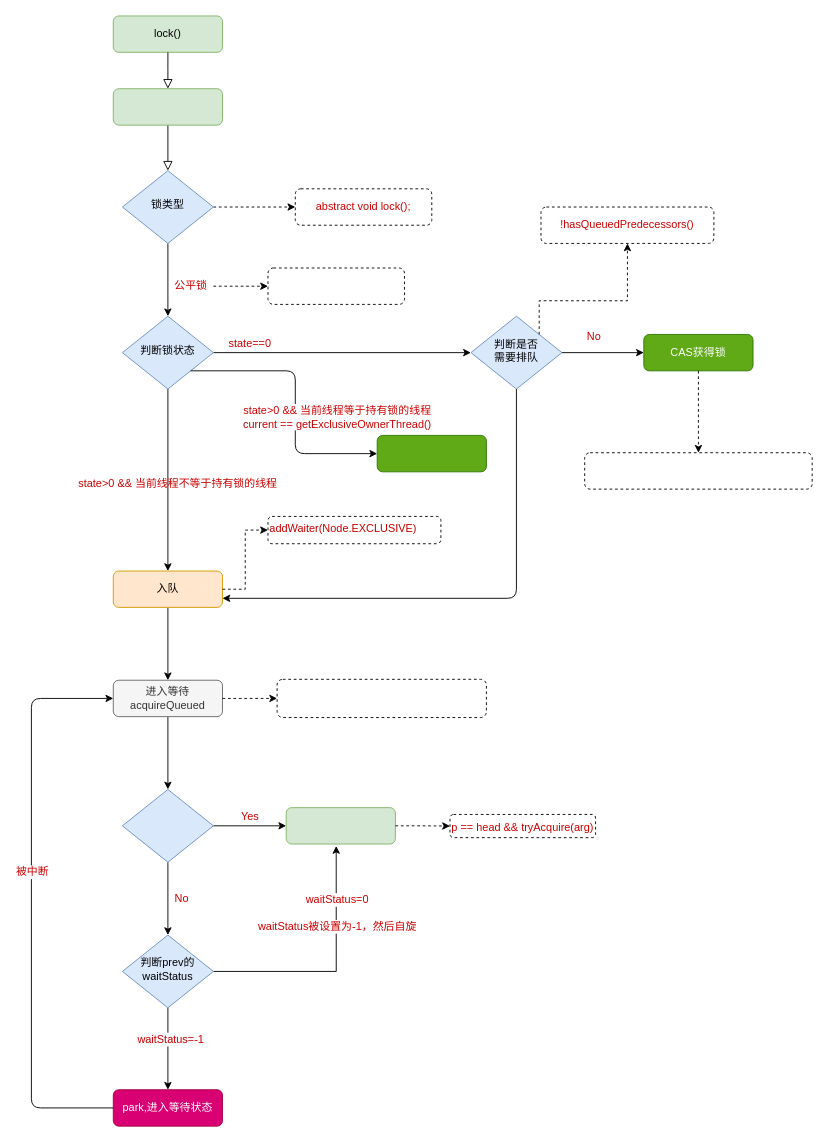
This 828x1142 diagram has some shape labels left out. Here are the shapes that lost their labels. From the top down, the centre of each, then its label:
(167,106): sync.lock();
(335,285): FairSync.lock();
(431,453): 锁重入
(698,470): compareAndSetState( 0 , acquires)
(381,698): acquireQueued(final Node node, int arg)，parkAndCheckInterrupt()
(167,825): prev是否 等于head
(340,825): CAS获取锁
